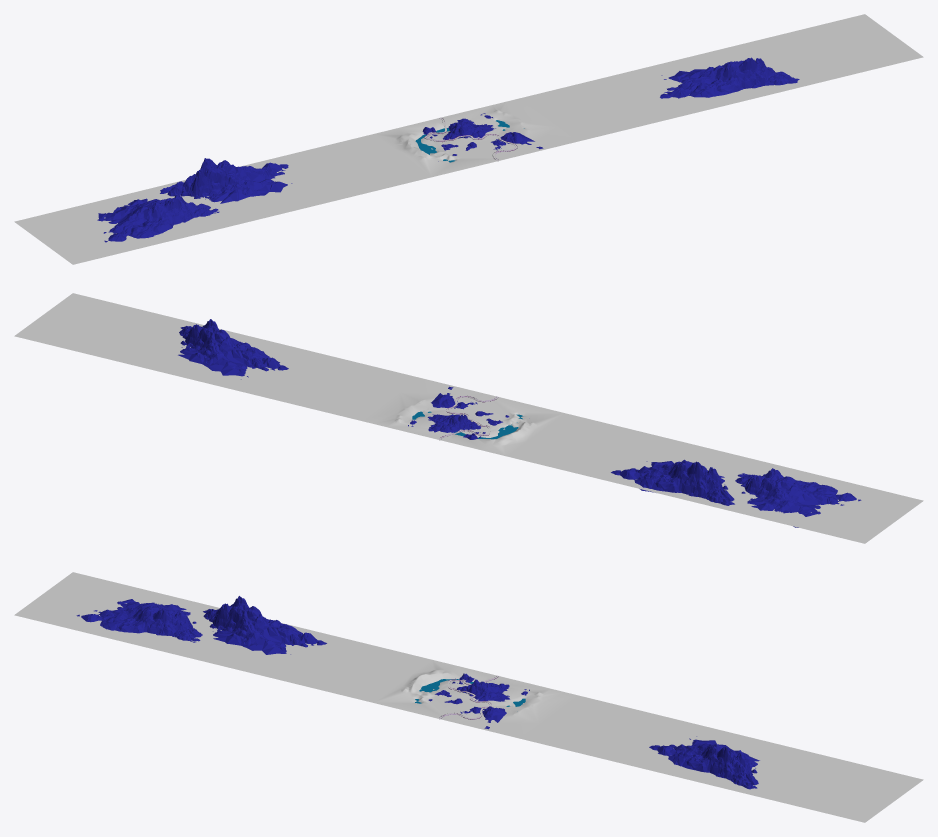
The model's file is Rock_6.FBX.
The picture shows the model from 3 angles, top to bottom: view 1: azimuth 30°, elevation 25°; view 2: azimuth 150°, elevation 25°; view 3: azimuth 330°, elevation 25°; orthographic projection.
Parts seen in each view (by area): view 1: Plane029, landscape, Object001; view 2: Plane029, landscape, Object001; view 3: Plane029, landscape, Object001.
Part boxes in pixels (x1,y1,x2,y2): Plane029: (14,14,923,264); landscape: (97,57,799,242); Object001: (373,98,577,177); Plane029: (14,293,923,543); landscape: (178,319,861,527); Object001: (360,377,564,456); Plane029: (14,572,923,822); landscape: (76,596,759,789); Object001: (373,659,577,738).
Size of the model in its own units: 20000 by 2400 by 745.
